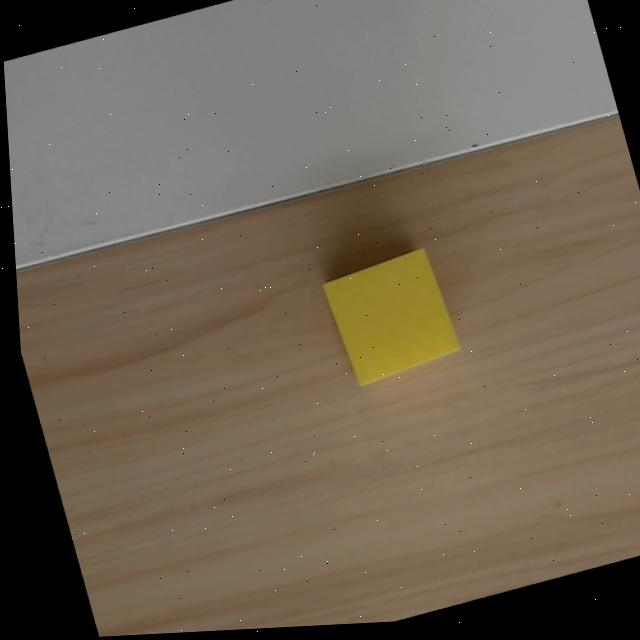Kubus-Kuning-505050: (320, 245, 461, 387)
